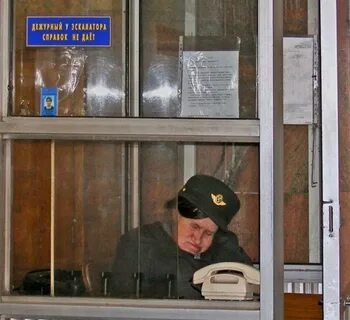sleep: (119, 174, 254, 274)
